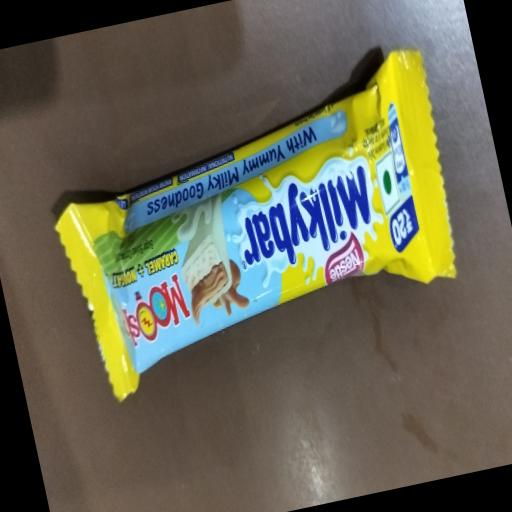medicine: (48, 124, 459, 372)
milky-bar: (222, 160, 388, 293)
